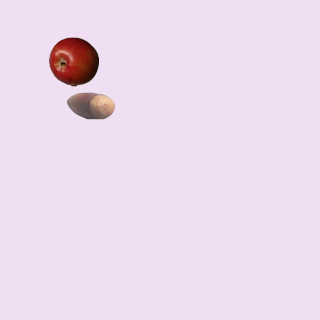Apple Braeburn: (48, 36, 98, 86)
Hazelnut: (65, 80, 115, 130)
